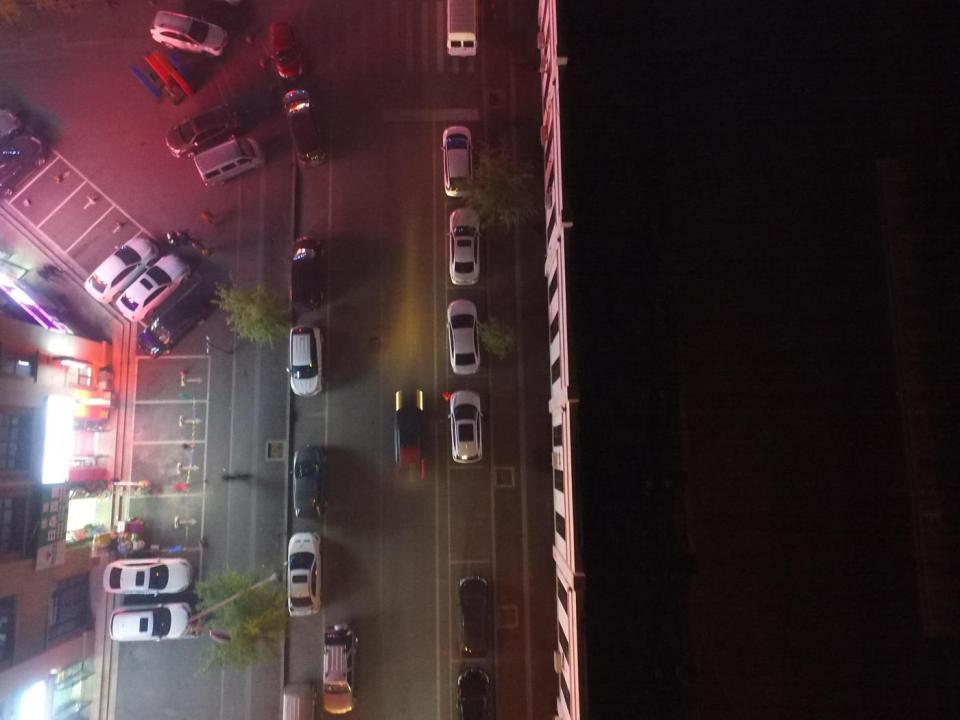car: (115, 254, 191, 322), (85, 237, 160, 304), (137, 293, 207, 358), (166, 105, 238, 158), (103, 556, 193, 597), (150, 10, 228, 57), (283, 90, 326, 168), (284, 532, 323, 617), (110, 603, 192, 641), (394, 389, 426, 478), (0, 134, 45, 197), (289, 445, 327, 518), (286, 324, 324, 397), (447, 390, 484, 463), (447, 208, 482, 285), (446, 300, 480, 374), (456, 576, 487, 656), (441, 125, 474, 197), (270, 21, 302, 79), (456, 670, 490, 720)
van: (194, 136, 265, 186), (322, 624, 357, 712), (288, 236, 323, 311), (446, 0, 478, 57), (282, 683, 314, 719)
